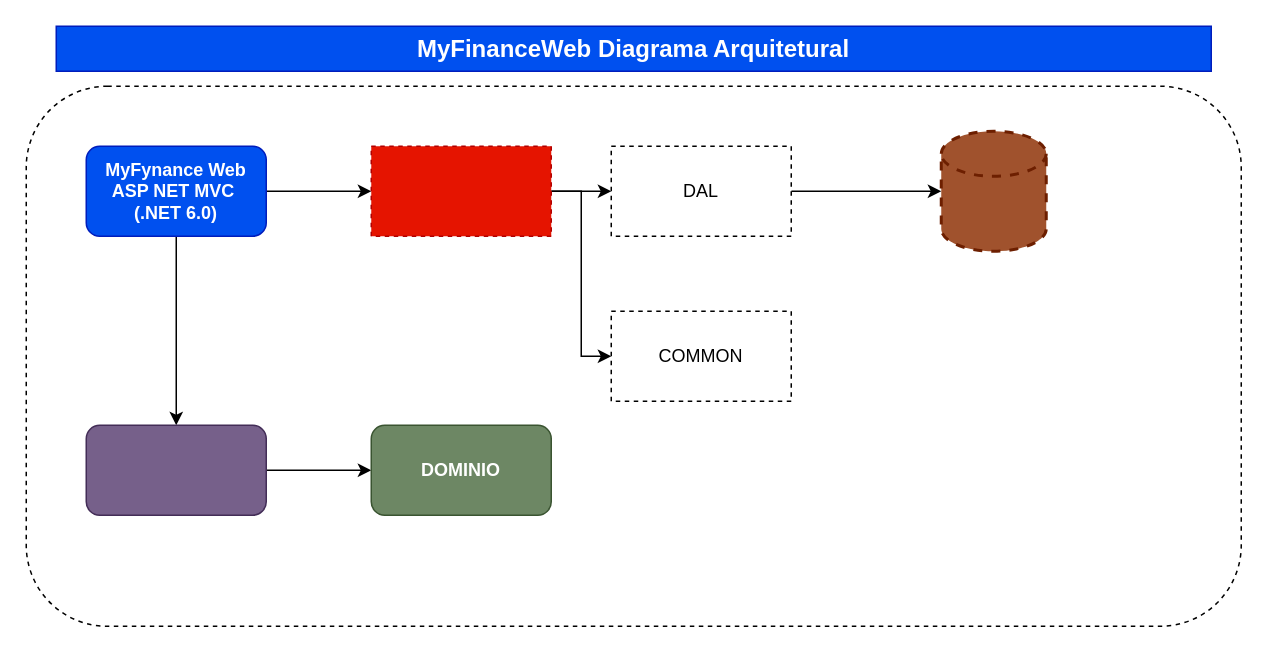
The diagram is 1268 pixels wide and 653 high, and some of its shapes have lost their labels. Here are the shapes that lost their labels. From the top down, the centre of each, then its label:
At (x=460, y=190): "INFRAESTRUTURA".
At (x=993, y=190): "SQL MyFynance".
At (x=175, y=469): "SERVIÇOS".
